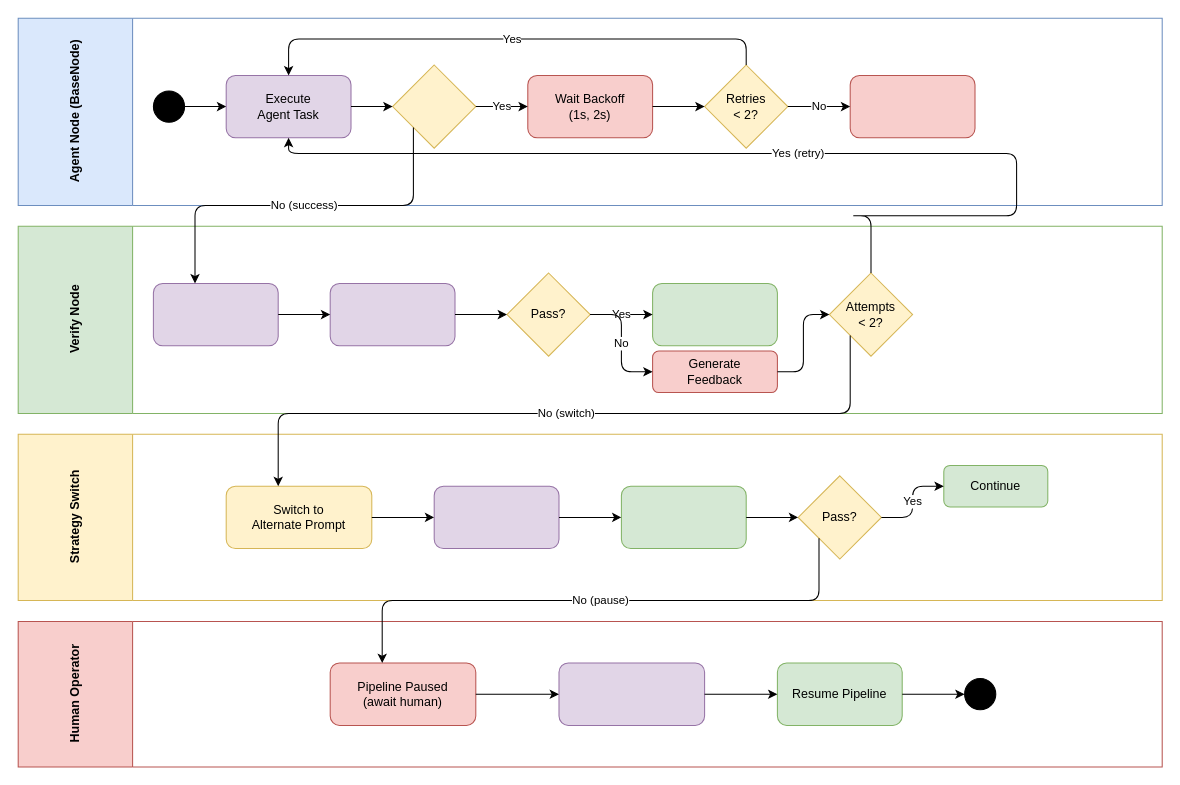
Image size: 1180x785. Some labels were removed from this diagram. The centre of each missing label's shape, as x and y in pixels:
"Check Quality Criteria" goes at (392,314).
"Continue to Next Node" goes at (714,314).
"Emit Error Mark Failed" goes at (912,106).
"Error?" goes at (434,106).
"Provide Feedback / Guidance" goes at (631,693).
"Re-Execute Agent" goes at (496,517).
"Re-Verify Output" goes at (683,517).
"Receive Agent Output" goes at (215,314).
